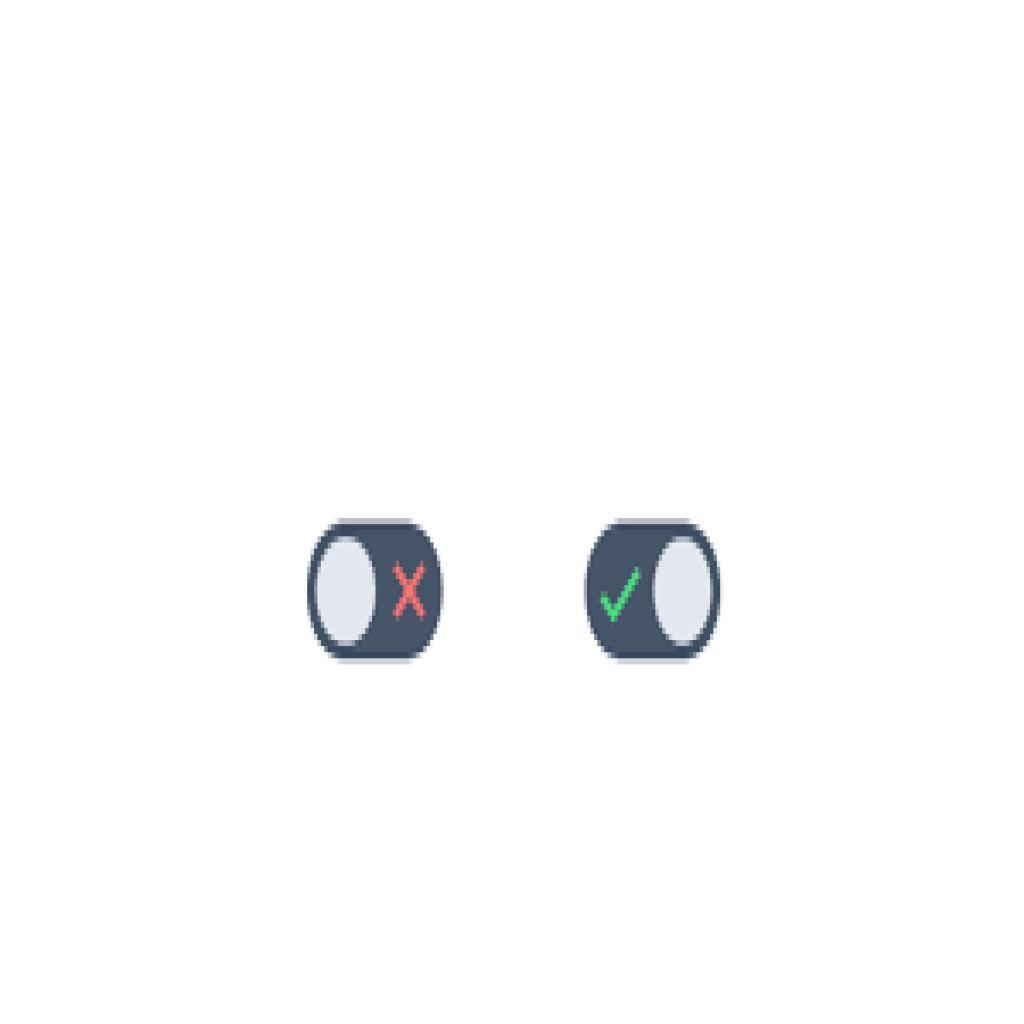switch: (308, 518, 448, 671), (583, 518, 724, 667)
